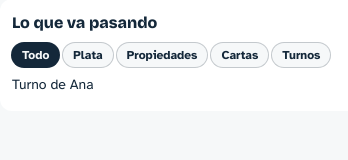
Test case: registro filtrable (SPEC §7.4) › una categoría sin eventos lo dice
The width and height of the screenshot is (348, 160).
Click the button "Cartas" at x=240, y=55, box [211, 43, 268, 67]
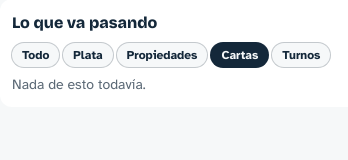
Expected: the text "Nada de esto todavía." is shown, [12, 76, 146, 93]
